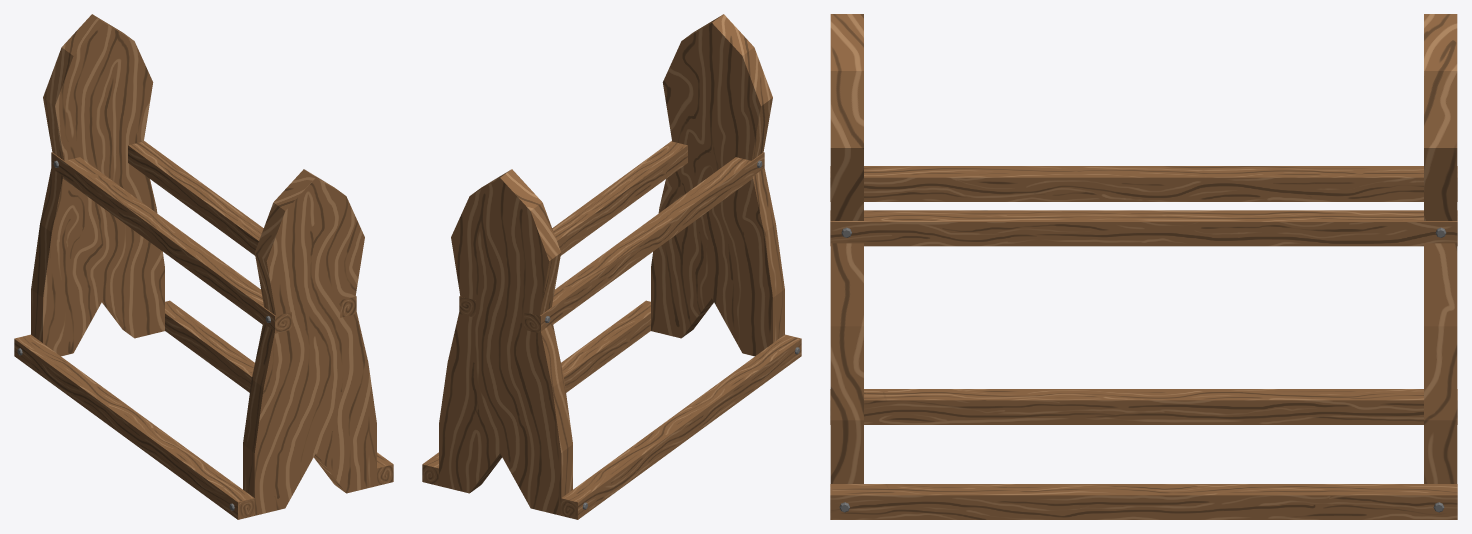
File: LowPolySwordStandfixed.fbx
The picture shows the model from 3 angles, left to right: view 1: azimuth 30°, elevation 25°; view 2: azimuth 150°, elevation 25°; view 3: azimuth 270°, elevation 25°; orthographic projection. The views are drawn at different scales.
Parts seen in each view (by area): view 1: Cube.003; view 2: Cube.003; view 3: Cube.003.
Part boxes in pixels (left/top/right/bottom): Cube.003: left=14, top=14, right=393, bottom=519; Cube.003: left=422, top=14, right=801, bottom=519; Cube.003: left=830, top=14, right=1457, bottom=519.
Bounding box in the file's own units: 133 × 257 × 322.
